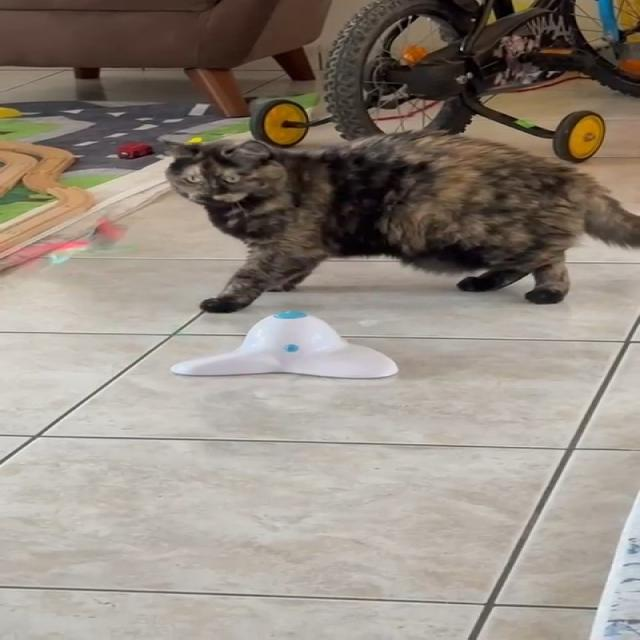authorized: (161, 128, 639, 314)
